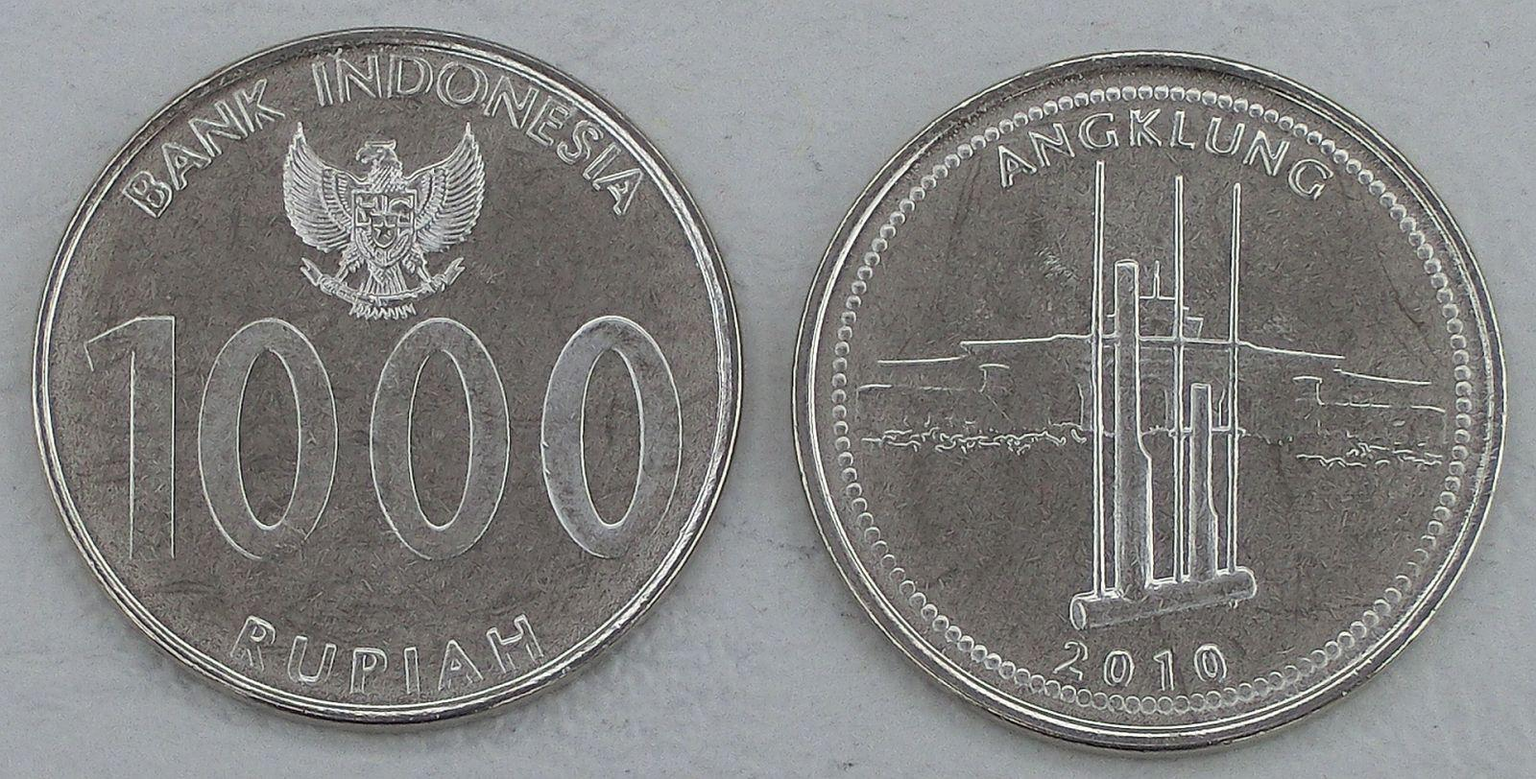coin_1000_e2010: (14, 23, 746, 737), (788, 49, 1517, 757)
